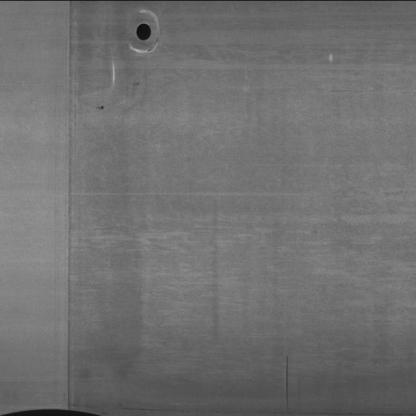punching_hole: (128, 16, 157, 44)
welding_line: (58, 0, 85, 411)
